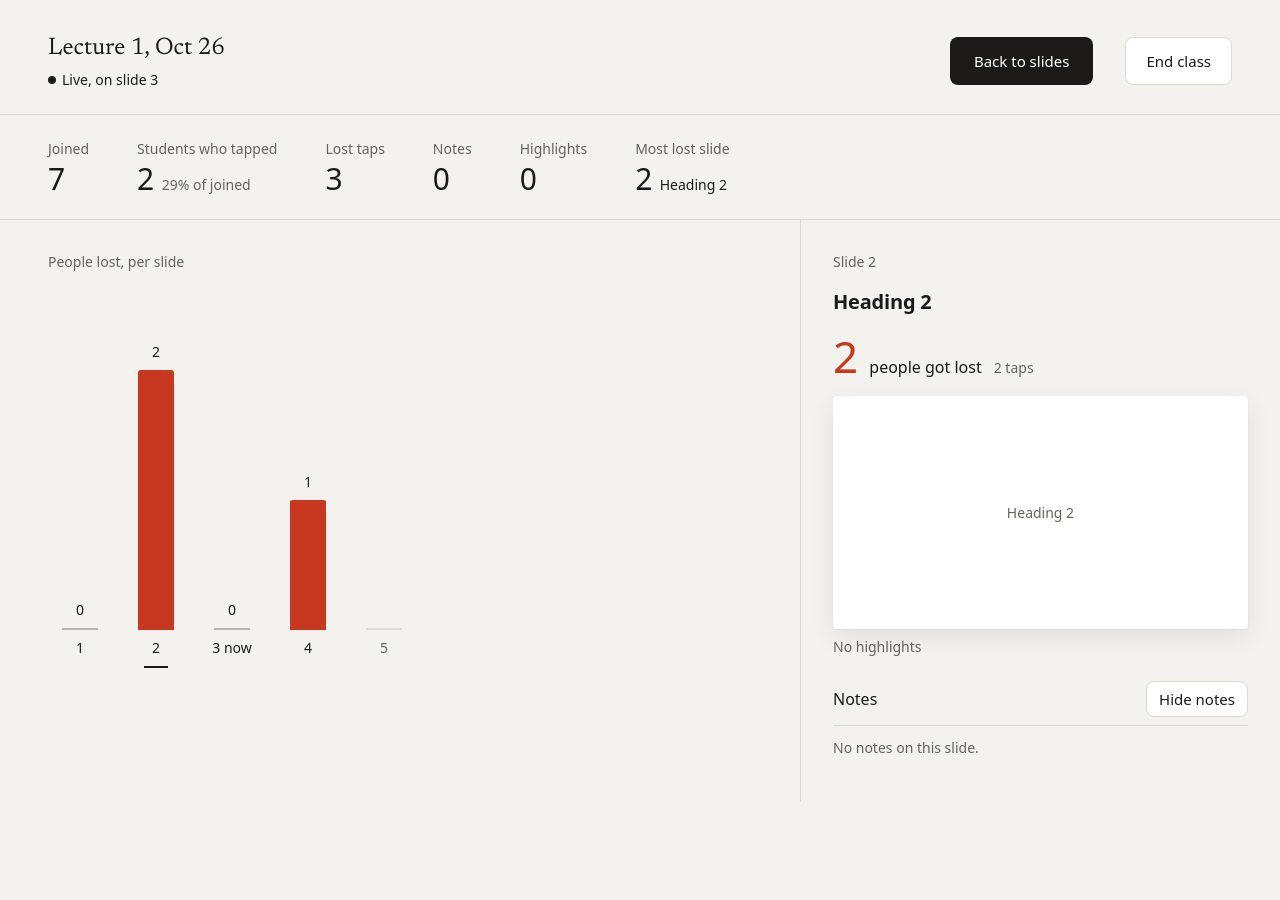
Scenario: End class › shows no confirm until End lecture is pressed, then asks with the exact words
The image size is (1280, 900).
Click the button "End class" at coordinates (1179, 61), box [1125, 37, 1232, 85]
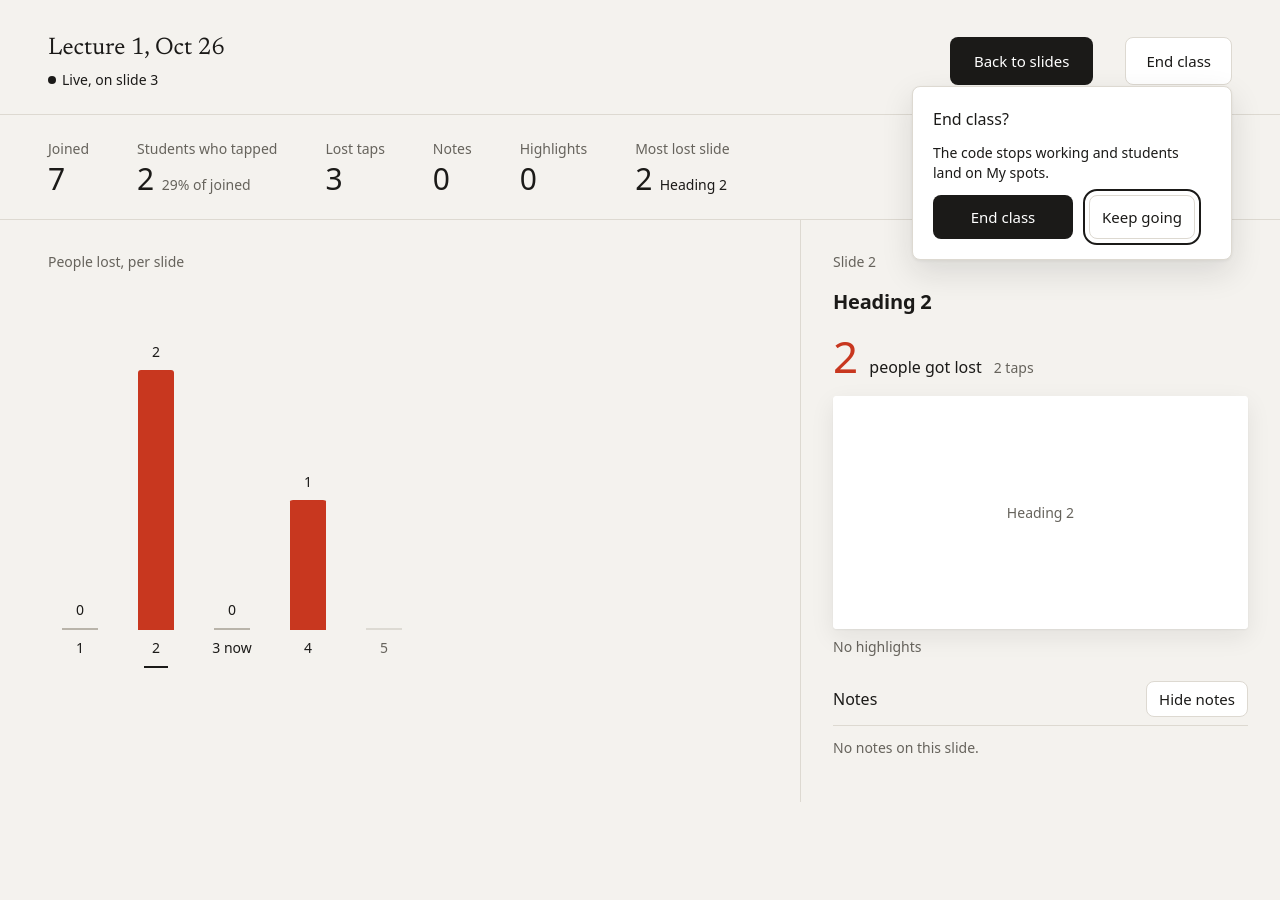
expect the text "The code stops working and students land on My spots." is shown: met, box [933, 143, 1211, 183]
expect the button "End class" below "End class?" is shown: met, box [933, 195, 1073, 239]
